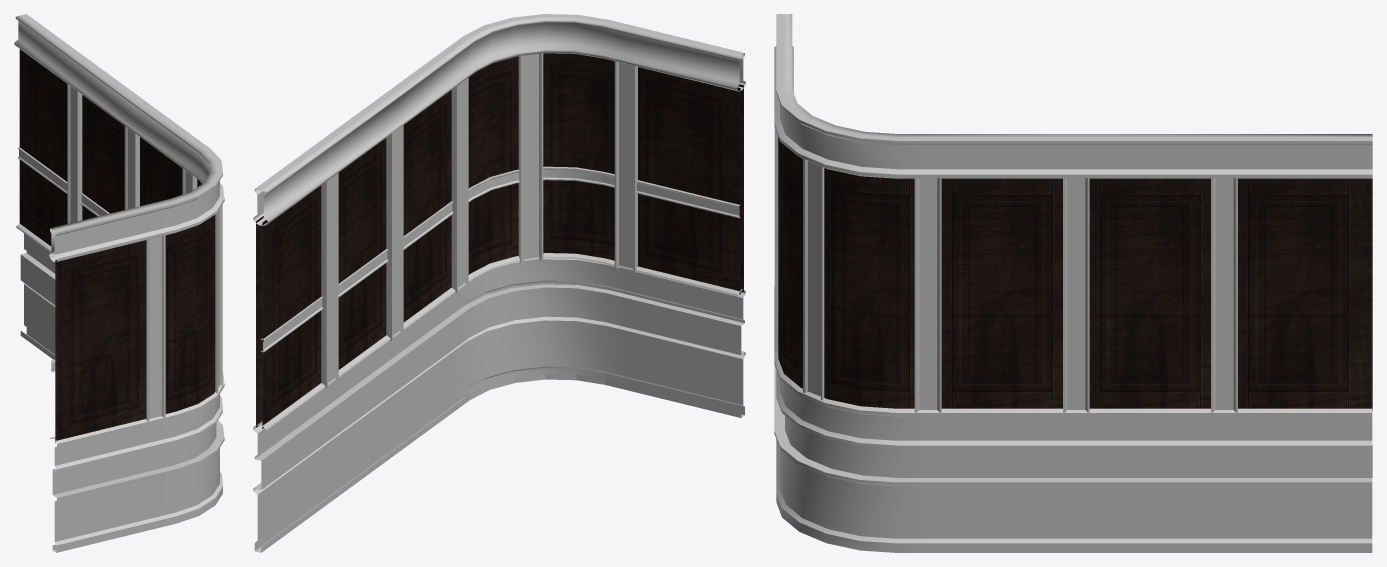
Rendered from engineroom_balcony_office_corner_nowin.dae.
3 views of the same model, side by side, from view 1: azimuth 30°, elevation 25°; view 2: azimuth 150°, elevation 25°; view 3: azimuth 270°, elevation 25° (orthographic). The views are drawn at different scales.
Parts seen in each view (by area): view 1: polySurface28, polySurface1, balcony_corner_bricks001; view 2: polySurface28, polySurface1, balcony_corner_bricks001; view 3: polySurface28, polySurface1, balcony_corner_bricks001.
Boxes of the visible parts, x1,y1,x2,y2 form: polySurface28: (14, 14, 224, 552); polySurface1: (19, 49, 215, 442); balcony_corner_bricks001: (20, 255, 216, 494); polySurface28: (253, 14, 745, 552); polySurface1: (256, 53, 743, 428); balcony_corner_bricks001: (261, 287, 741, 489); polySurface28: (774, 14, 1372, 552); polySurface1: (778, 137, 1372, 410); balcony_corner_bricks001: (785, 415, 1372, 477).
Bounding box in the file's own units: 4.08 × 6.14 × 8.08.
